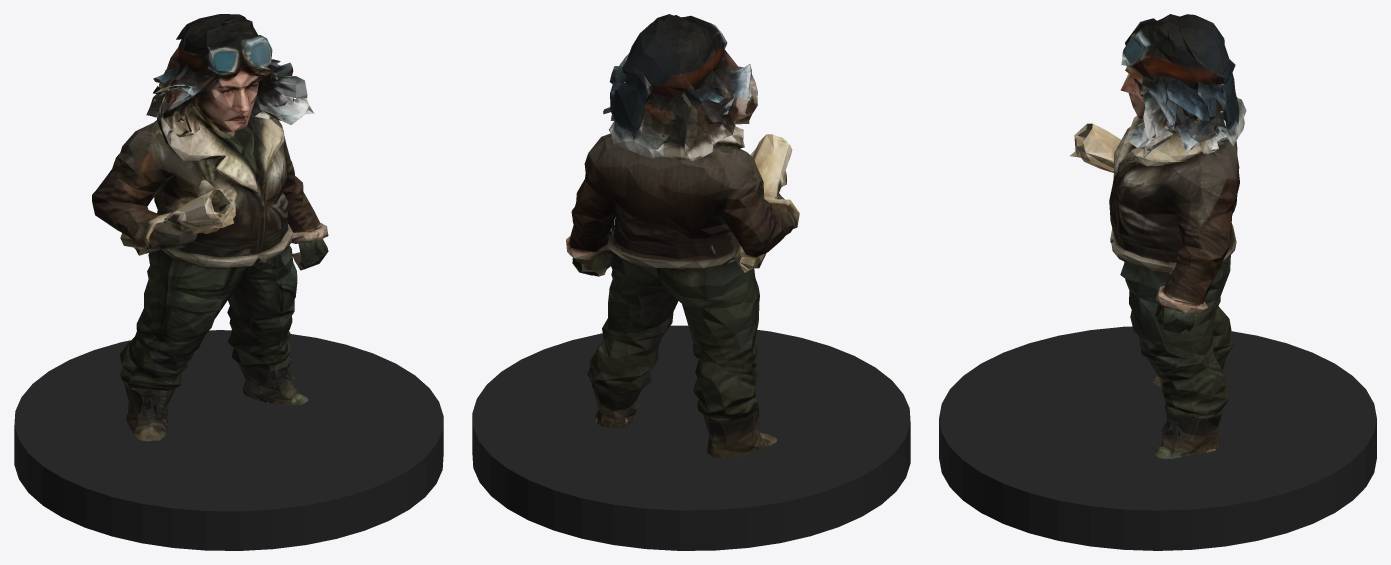
Rendered from sophie-robinson.glb.
The picture shows the model from 3 angles, left to right: view 1: azimuth 30°, elevation 25°; view 2: azimuth 150°, elevation 25°; view 3: azimuth 270°, elevation 25°; orthographic projection. The views are drawn at different scales.
Visible parts, largest first — view 1: base, figure; view 2: base, figure; view 3: base, figure.
Boxes of the visible parts, x1=… form: base: x1=14, y1=330, x2=443, y2=550; figure: x1=92, y1=14, x2=328, y2=441; base: x1=472, y1=325, x2=910, y2=550; figure: x1=566, y1=14, x2=799, y2=458; base: x1=939, y1=326, x2=1376, y2=550; figure: x1=1070, y1=14, x2=1246, y2=458.
Size of the model in its own units: 1.18 by 1.32 by 1.18.
2 materials, 1 textured.
